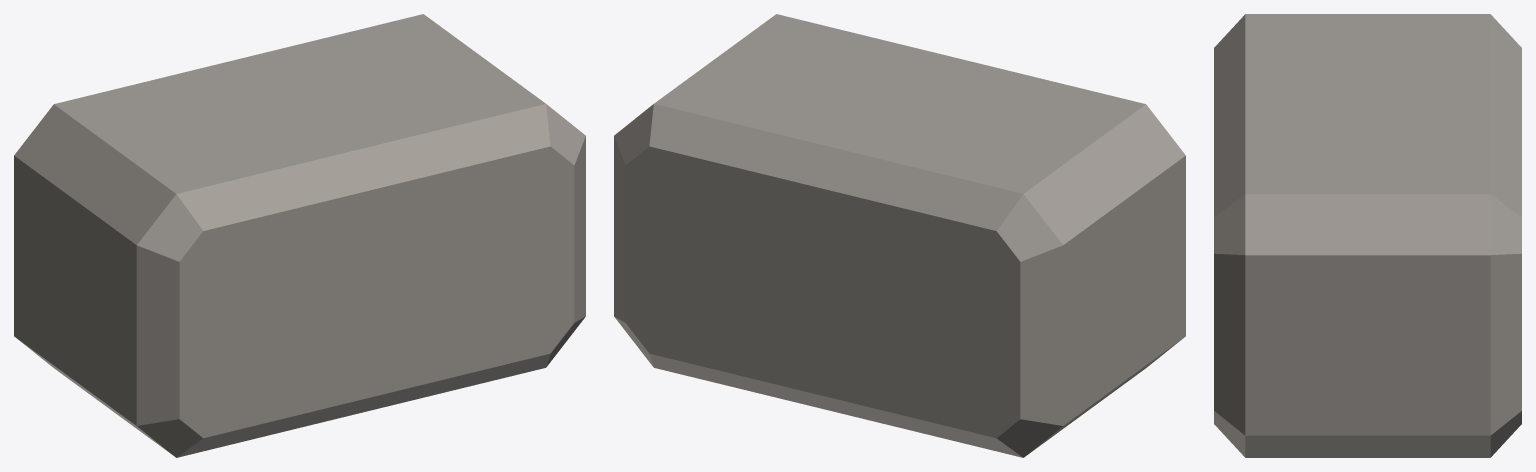
File: Brick 01.FBX
3 renders of one model, left to right at view 1: azimuth 30°, elevation 25°; view 2: azimuth 150°, elevation 25°; view 3: azimuth 270°, elevation 25°, orthographic.
Visible parts, largest first — view 1: Brick 01; view 2: Brick 01; view 3: Brick 01.
Boxes of the visible parts, x1,y1,x2,y2 form: Brick 01: [14, 14, 585, 457]; Brick 01: [614, 14, 1185, 457]; Brick 01: [1214, 14, 1521, 457].
Size of the model in its own units: 59.65 by 33.5 by 35.42.
Materials: 1 (1 with a texture image).
